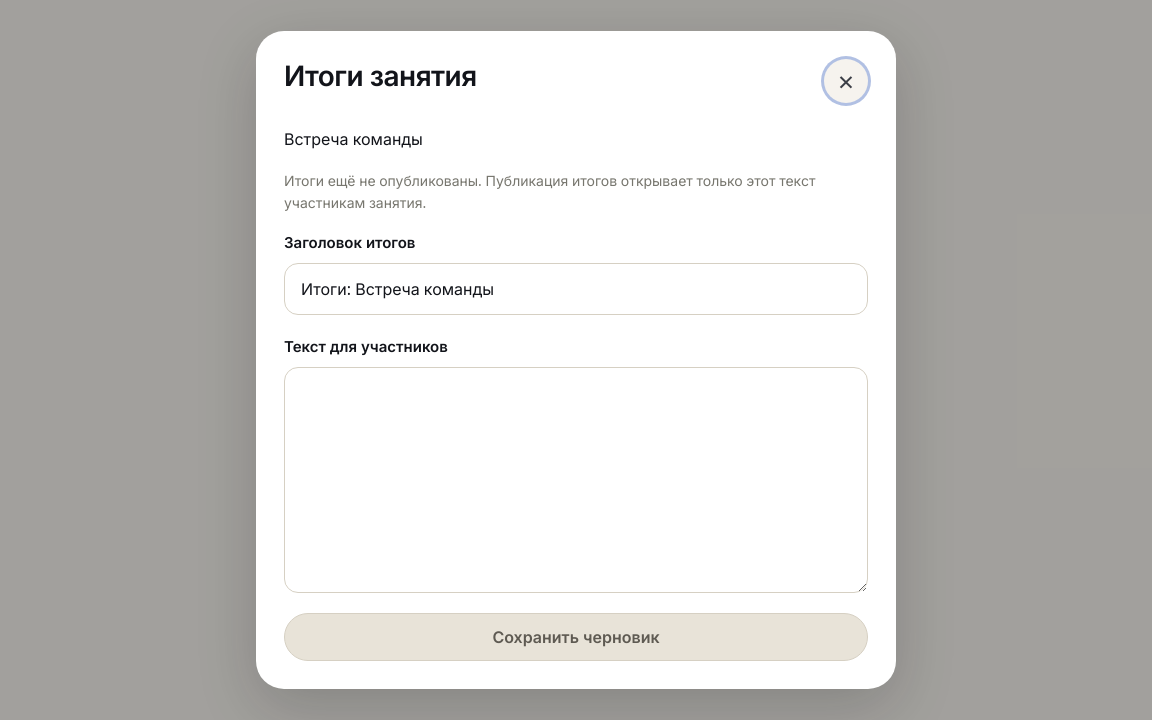
Test: requires each saved revision to be reviewed then published before explicit audience send
Replace the text in the field labelled "Заголовок итогов" with "Итоги встречи" at (576, 289), box x1=284 y1=262 x2=868 y2=315
Type "Мы обсудили планы." into the text box labelled "Текст для участников".
click(576, 480); type("Мы обсудили планы.")  # box x1=284 y1=366 x2=868 y2=593
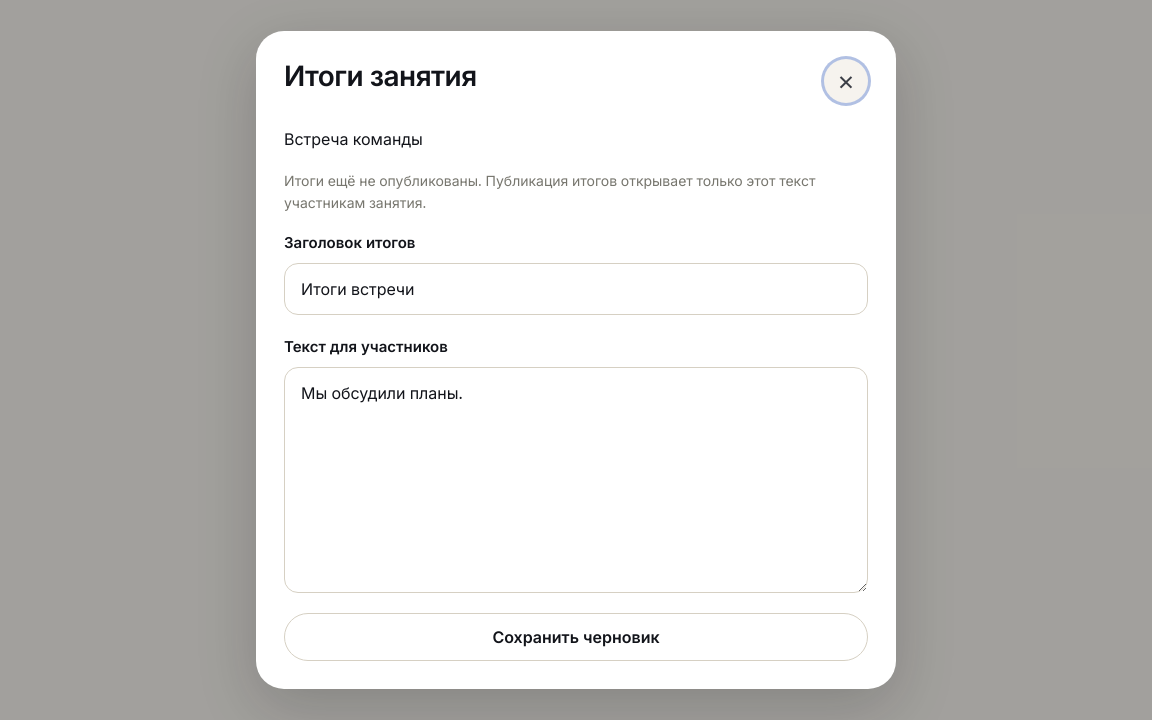
Click the button "Сохранить черновик".
click(576, 637)  # box x1=284 y1=613 x2=868 y2=661
(page scrolled)
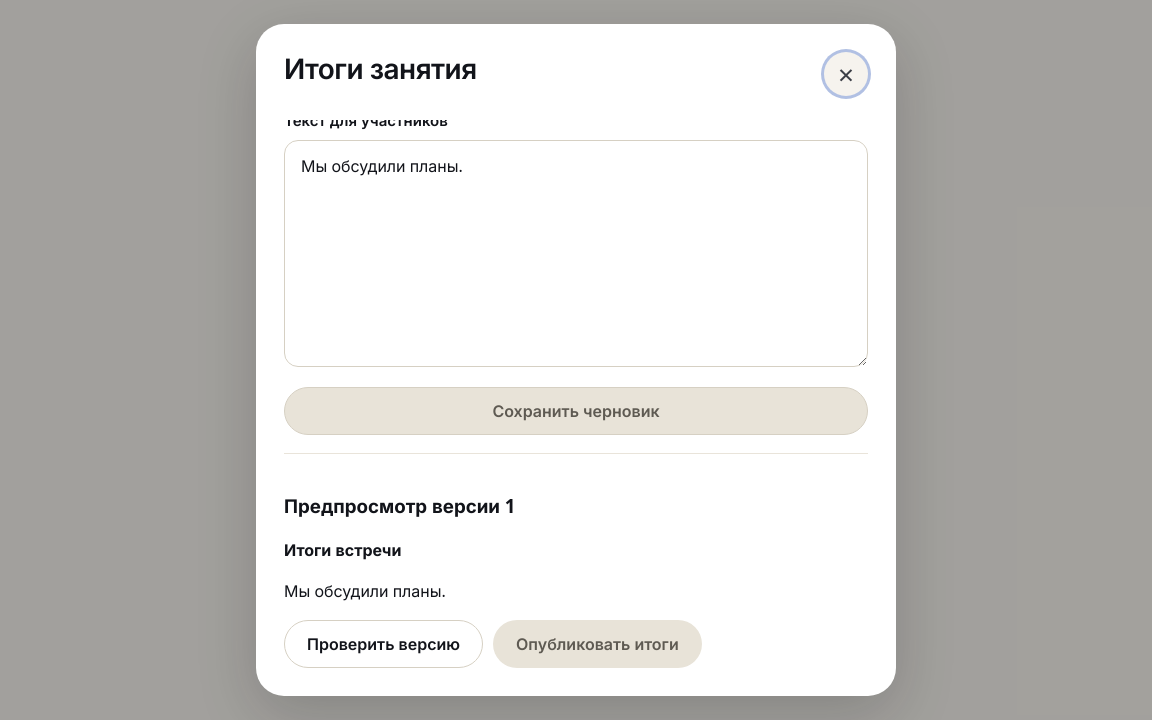
Result: the button "Проверить версию" is shown
Result: the button "Опубликовать итоги" is disabled at x1=493 y1=620 x2=702 y2=668
Click the button "Проверить версию".
click(384, 644)  # box x1=284 y1=620 x2=483 y2=668
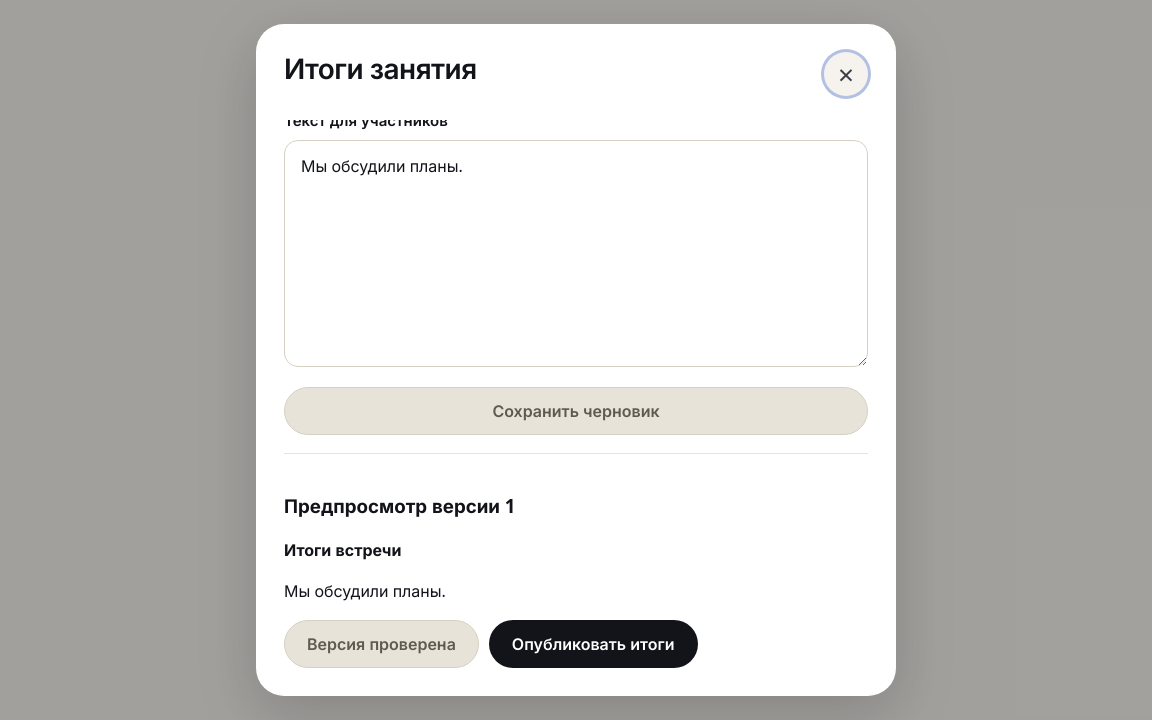
Result: the button "Версия проверена" is shown at x1=284 y1=620 x2=479 y2=668
Click the button "Опубликовать итоги".
click(593, 644)  # box x1=489 y1=620 x2=698 y2=668
(page scrolled)
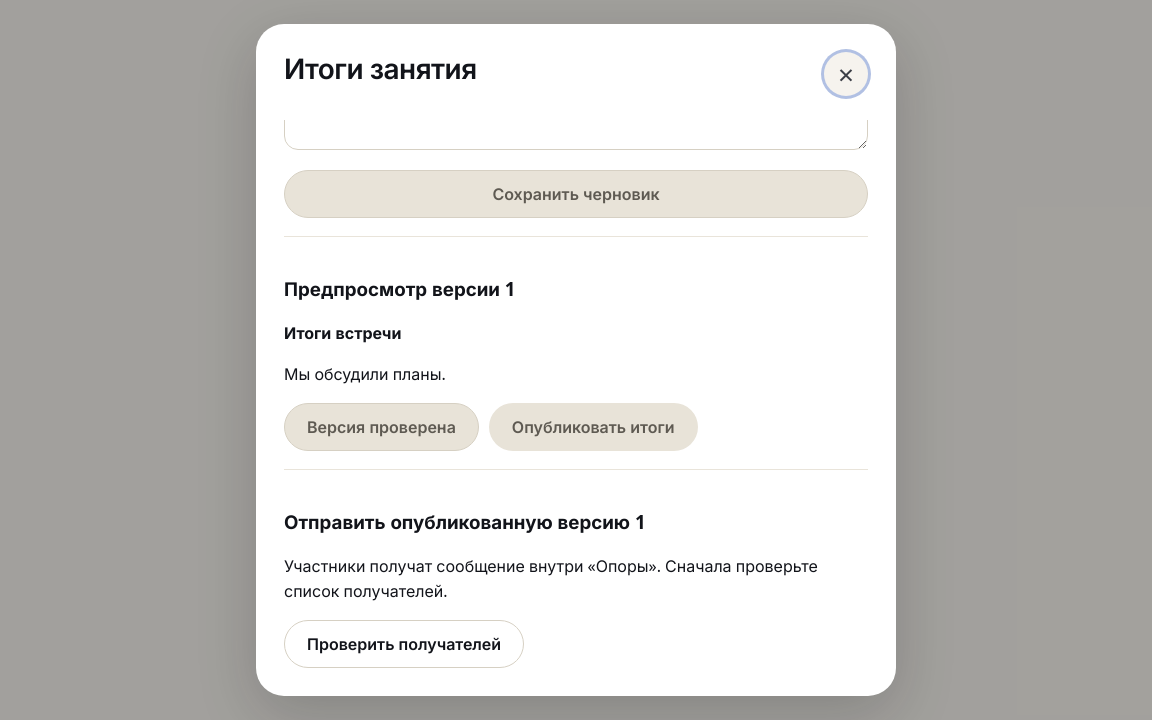
Result: the button "Проверить получателей" is shown
Click the button "Проверить получателей".
click(404, 644)  # box x1=284 y1=620 x2=524 y2=668
(page scrolled)
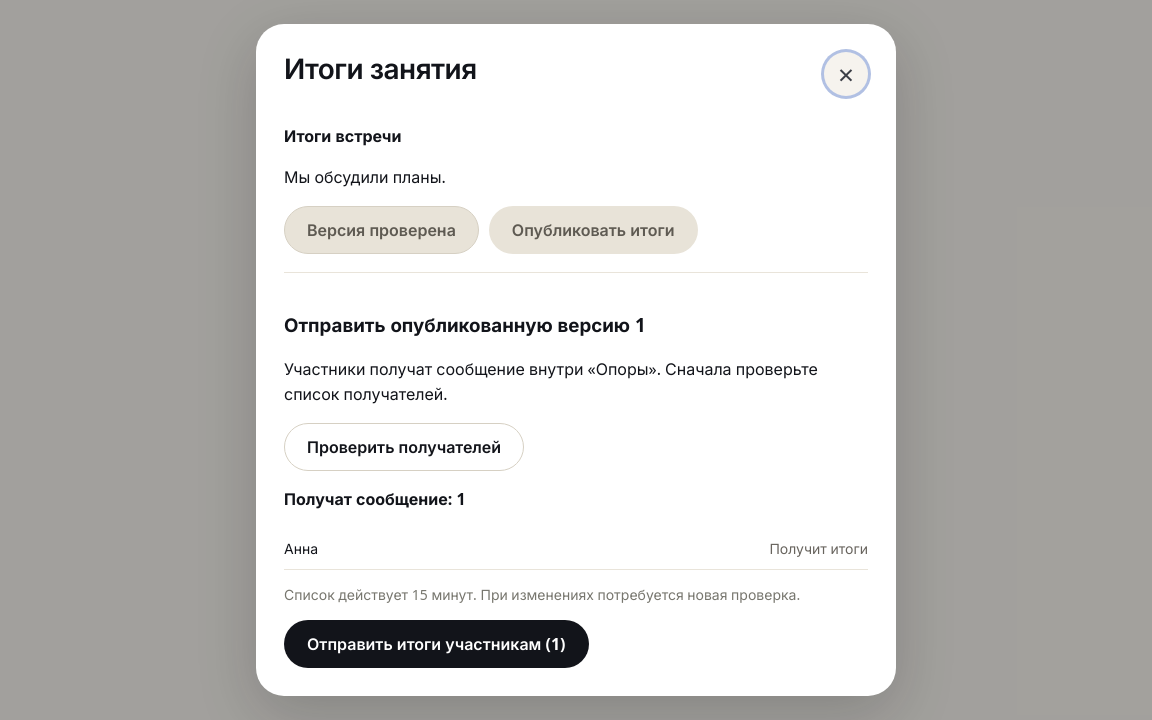
Result: the text "Анна" is shown at x1=284 y1=538 x2=318 y2=559
Click the button "Отправить итоги участникам (1)".
click(436, 644)  # box x1=284 y1=620 x2=588 y2=668
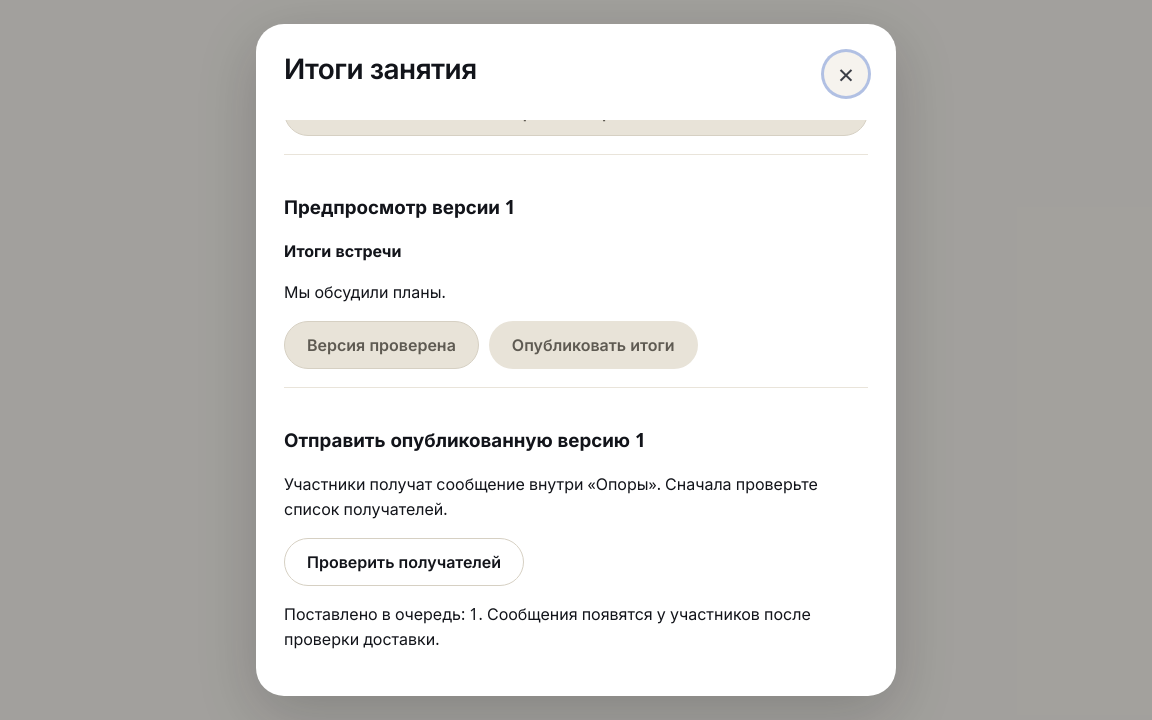
Result: the message shows "Поставлено в очередь: 1" at x1=284 y1=602 x2=868 y2=652
